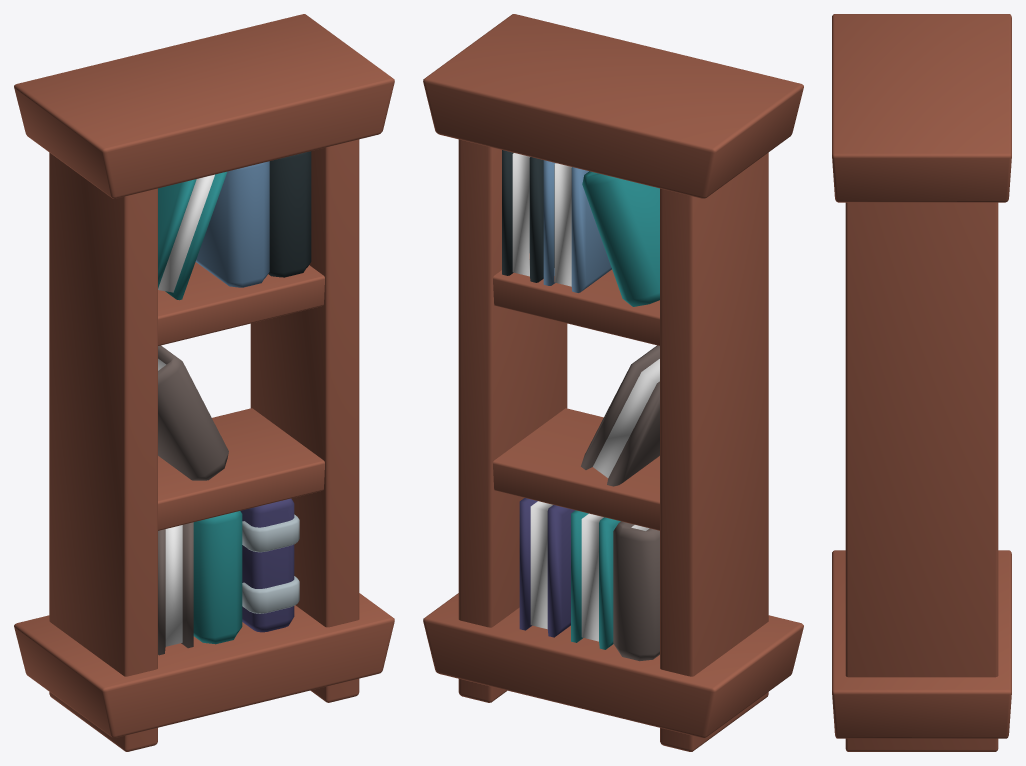
The model's file is bookcase_small.gltf.
3 renders of one model, left to right at view 1: azimuth 30°, elevation 25°; view 2: azimuth 150°, elevation 25°; view 3: azimuth 270°, elevation 25°, orthographic.
Visible parts, largest first — view 1: bookcaseFilled; view 2: bookcaseFilled; view 3: bookcaseFilled.
Boxes of the visible parts, bbox=[...] form: bookcaseFilled: bbox=[14, 14, 394, 751]; bookcaseFilled: bbox=[423, 14, 803, 751]; bookcaseFilled: bbox=[832, 14, 1011, 751].
Bounding box in the file's own units: 0.9944 × 2 × 0.5329.
